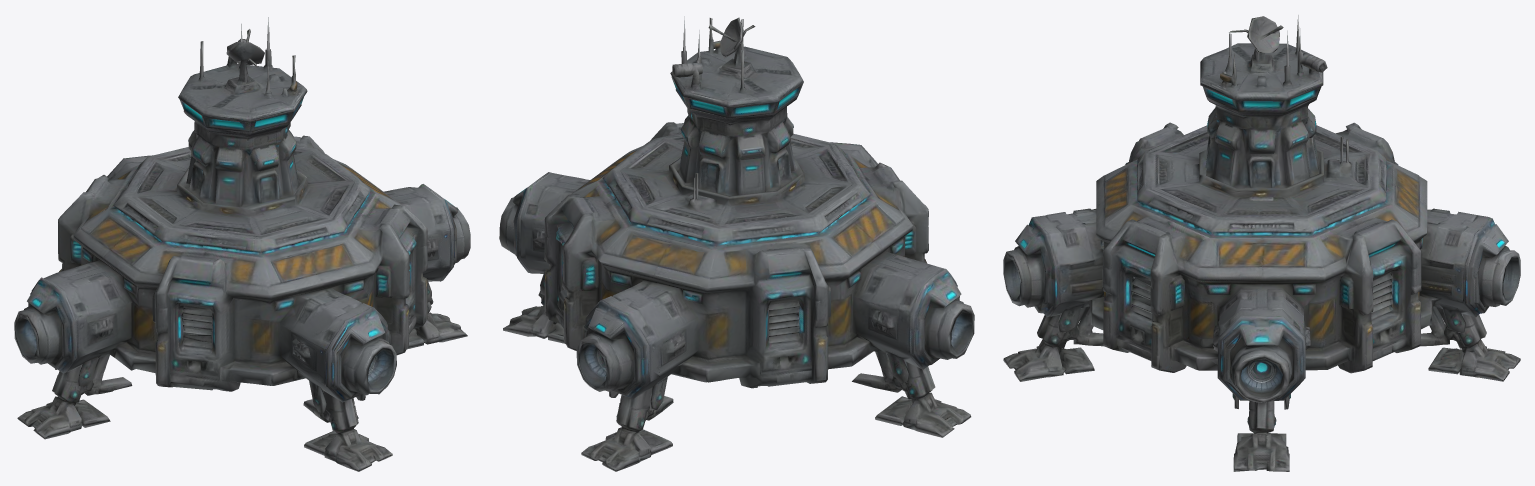
File: command_center.glb
3 renders of one model, left to right at view 1: azimuth 30°, elevation 25°; view 2: azimuth 150°, elevation 25°; view 3: azimuth 270°, elevation 25°, orthographic. The views are drawn at different scales.
Parts seen in each view (by area): view 1: tripo_node_25b05afb-4e9e-4e7a-9180-214360be0763; view 2: tripo_node_25b05afb-4e9e-4e7a-9180-214360be0763; view 3: tripo_node_25b05afb-4e9e-4e7a-9180-214360be0763.
Boxes of the visible parts, x1,y1,x2,y2 form: tripo_node_25b05afb-4e9e-4e7a-9180-214360be0763: [14, 17, 470, 471]; tripo_node_25b05afb-4e9e-4e7a-9180-214360be0763: [499, 16, 974, 471]; tripo_node_25b05afb-4e9e-4e7a-9180-214360be0763: [1003, 15, 1520, 471].
Size of the model in its own units: 6.46 by 4.95 by 6.5.
1 material, 1 textured.
